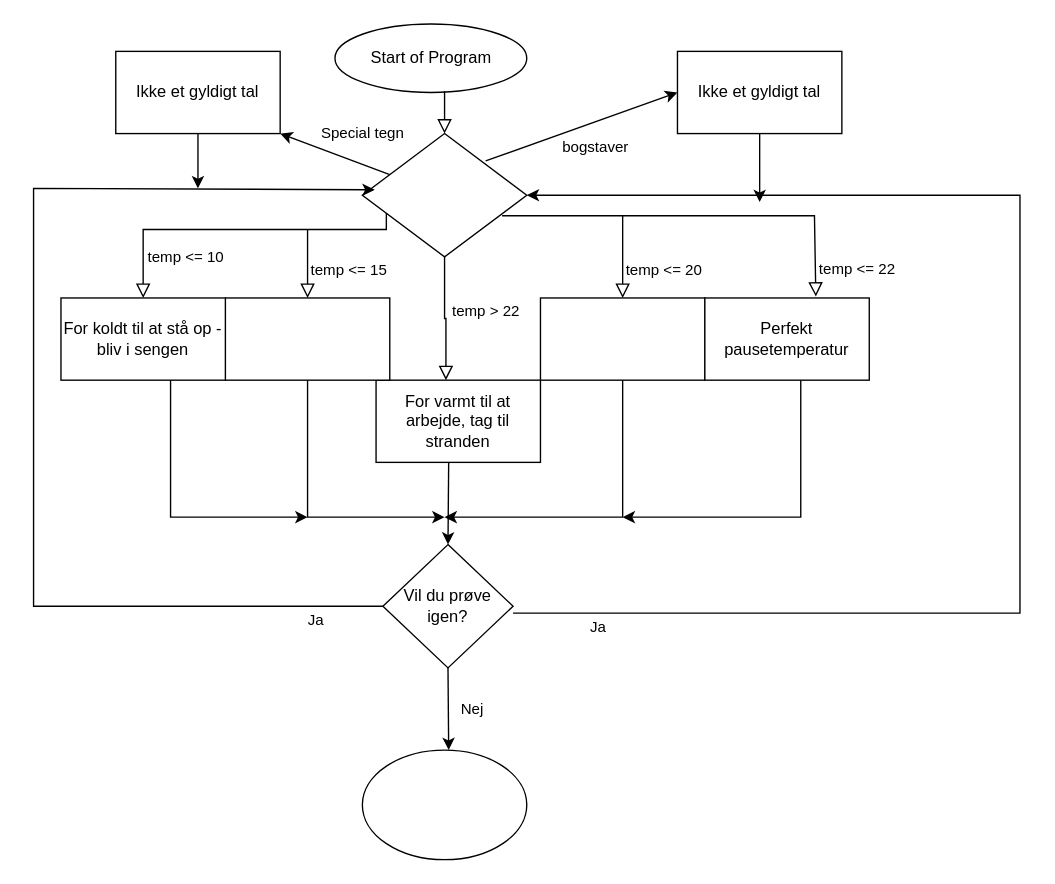
Image size: 1055x884. Some labels were removed from this diagram. The centre of each missing label's shape, as x and y in pixels:
End of program: point (444, 804)
For koldt til at arbejde - bliv hjemme: point (307, 338)
Hvad er temperaturen i grader celsius: point (444, 194)
OK temperatur til en tur i skoven: point (622, 338)
